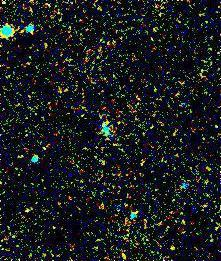star: (156, 231, 186, 261)
